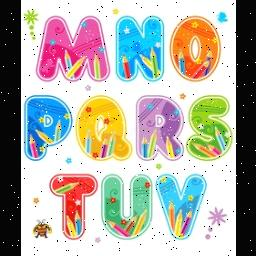m: (32, 16, 112, 84)
n: (111, 9, 171, 85)
o: (166, 12, 228, 82)
p: (20, 94, 70, 164)
q: (72, 92, 136, 166)
r: (134, 93, 186, 169)
s: (184, 93, 236, 169)
t: (40, 168, 100, 244)
u: (96, 170, 156, 240)
v: (150, 170, 212, 246)
